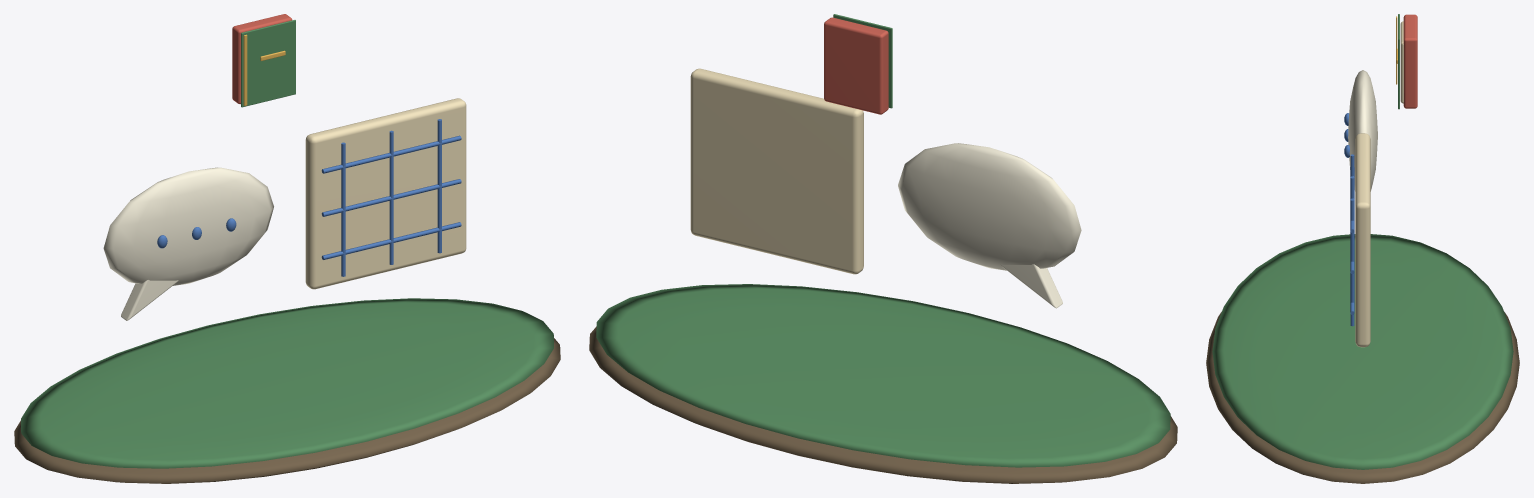
The model's file is complete-third-language-method.glb.
The picture shows the model from 3 angles, left to right: view 1: azimuth 30°, elevation 25°; view 2: azimuth 150°, elevation 25°; view 3: azimuth 270°, elevation 25°; orthographic projection. The views are drawn at different scales.
Visible parts, largest first — view 1: complete-third-language-method_surface_01, complete-third-language-method_surface_04, complete-third-language-method_surface_02, complete-third-language-method_surface_00, complete-third-language-method_surface_03, complete-third-language-method_surface_05; view 2: complete-third-language-method_surface_01, complete-third-language-method_surface_04, complete-third-language-method_surface_02, complete-third-language-method_surface_00, complete-third-language-method_surface_05; view 3: complete-third-language-method_surface_01, complete-third-language-method_surface_00, complete-third-language-method_surface_04, complete-third-language-method_surface_02, complete-third-language-method_surface_05, complete-third-language-method_surface_03.
Part boxes in pixels (x1=…): complete-third-language-method_surface_01: x1=21, y1=20, x2=553, y2=468; complete-third-language-method_surface_04: x1=305, y1=98, x2=466, y2=289; complete-third-language-method_surface_02: x1=103, y1=167, x2=273, y2=320; complete-third-language-method_surface_00: x1=14, y1=338, x2=560, y2=483; complete-third-language-method_surface_03: x1=157, y1=119, x2=461, y2=276; complete-third-language-method_surface_05: x1=232, y1=14, x2=292, y2=104; complete-third-language-method_surface_01: x1=596, y1=14, x2=1170, y2=467; complete-third-language-method_surface_04: x1=690, y1=68, x2=863, y2=274; complete-third-language-method_surface_02: x1=898, y1=143, x2=1081, y2=308; complete-third-language-method_surface_00: x1=589, y1=326, x2=1177, y2=483; complete-third-language-method_surface_05: x1=824, y1=17, x2=888, y2=114; complete-third-language-method_surface_01: x1=1212, y1=14, x2=1513, y2=469; complete-third-language-method_surface_00: x1=1206, y1=312, x2=1519, y2=483; complete-third-language-method_surface_04: x1=1355, y1=21, x2=1403, y2=347; complete-third-language-method_surface_02: x1=1348, y1=70, x2=1377, y2=191; complete-third-language-method_surface_05: x1=1403, y1=14, x2=1417, y2=108; complete-third-language-method_surface_03: x1=1344, y1=113, x2=1354, y2=326.
Bounding box in the file's own units: 4.56 × 3.09 × 2.5.
